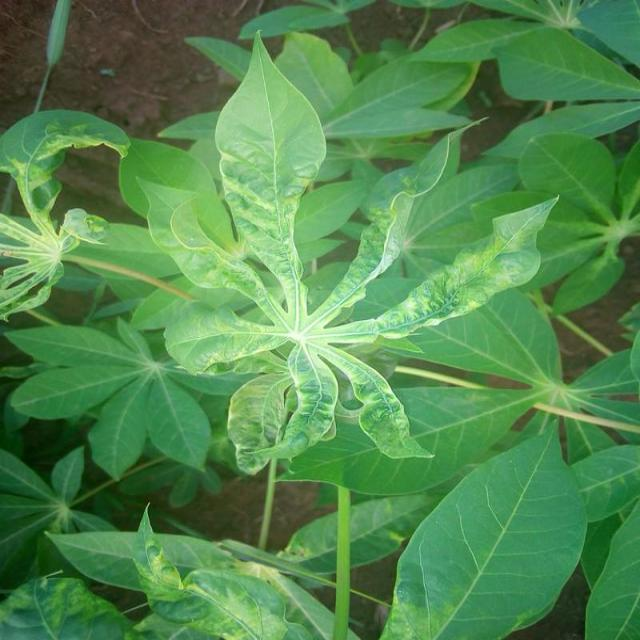cassava leaf: (2, 16, 638, 638), (124, 28, 560, 474), (380, 411, 589, 638)
